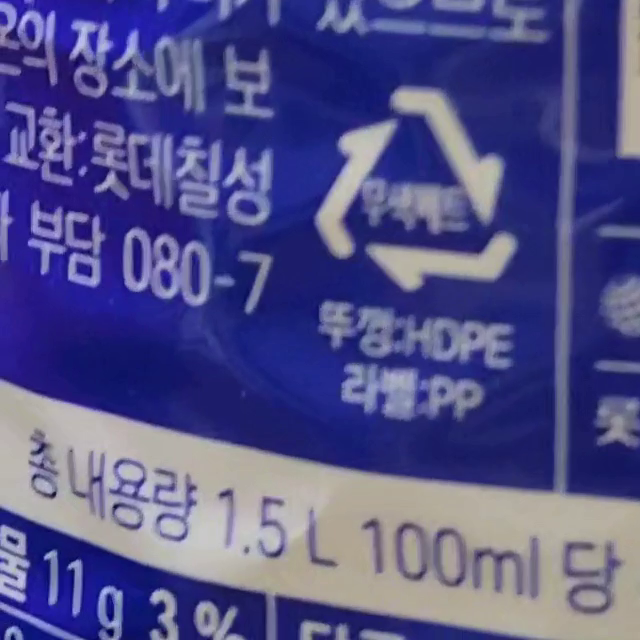ColorlessPet: (317, 86, 514, 290)
